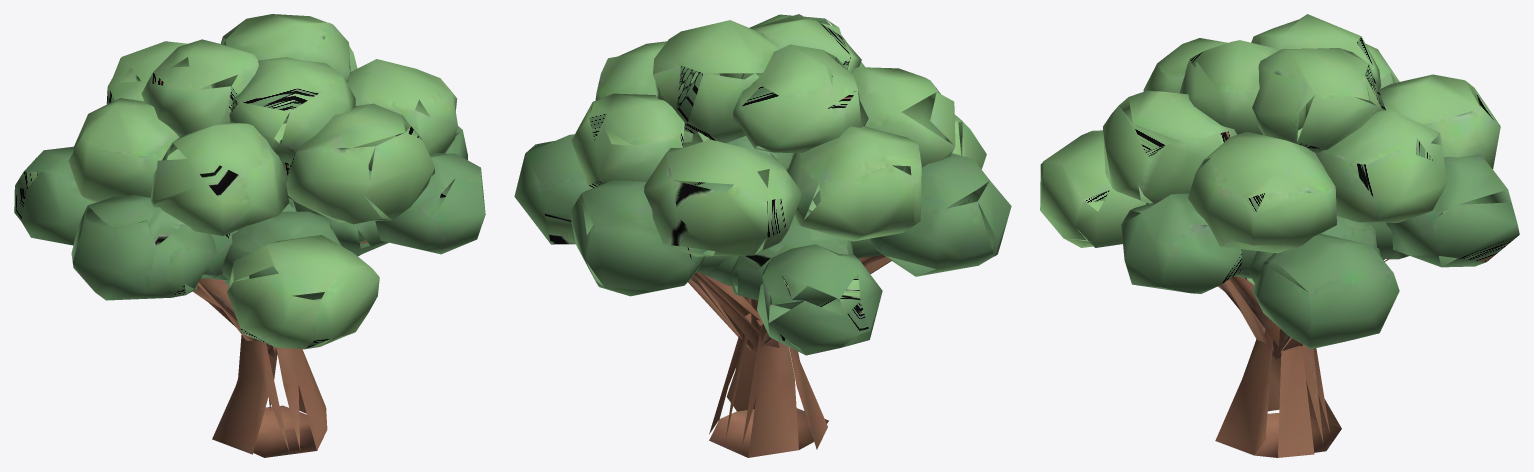
Rendered from oak-tree.glb.
The picture shows the model from 3 angles, left to right: view 1: azimuth 30°, elevation 25°; view 2: azimuth 150°, elevation 25°; view 3: azimuth 270°, elevation 25°; orthographic projection. The views are drawn at different scales.
Visible parts, largest first — view 1: oak-tree_body; view 2: oak-tree_body; view 3: oak-tree_body.
Part boxes in pixels (x1=…): oak-tree_body: x1=14, y1=14, x2=485, y2=457; oak-tree_body: x1=514, y1=14, x2=1011, y2=457; oak-tree_body: x1=1040, y1=14, x2=1519, y2=457.
Bounding box in the file's own units: 7.65 × 6.84 × 7.43.
Materials: 1 (1 with a texture image).
